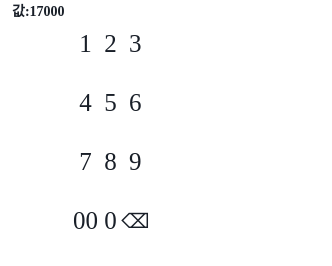
Test case: Keypad › 지우기로 시작하면 기존 값을 이어서 고친다
Click the button named "지우기": (135, 221) [124,193,146,249]
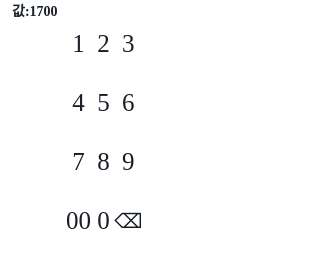
Click the button labelled "5": (103, 103) [92,75,114,131]
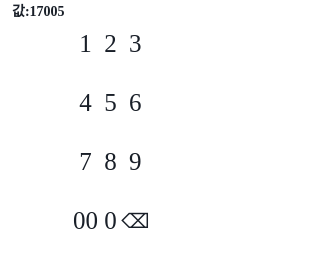
Check: the text "값:17005" is shown, box [12,4,64,19]
